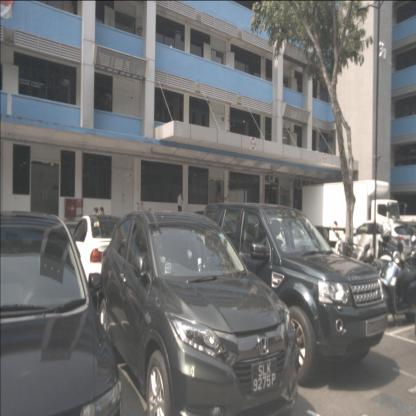human-pedestrian-adult: (178, 191, 184, 221), (216, 191, 222, 220)
vehicle-car: (95, 211, 300, 416), (204, 202, 390, 386), (0, 211, 123, 415), (64, 215, 148, 307), (336, 220, 413, 268)
vehicle-motorcycle: (331, 220, 404, 299), (346, 236, 416, 315), (370, 247, 416, 327)
vehicle-truck: (301, 180, 400, 254)
